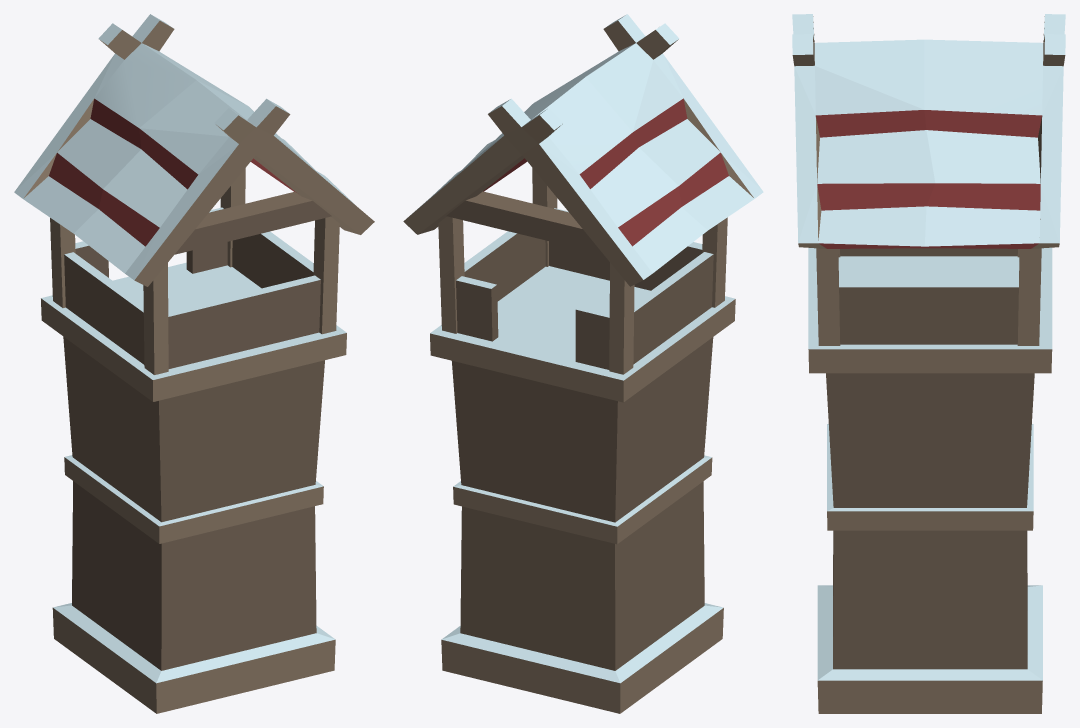
Rendered from SM_Bld_Viking_Tower_01_Snow.fbx.
3 views of the same model, side by side, from view 1: azimuth 30°, elevation 25°; view 2: azimuth 150°, elevation 25°; view 3: azimuth 270°, elevation 25° (orthographic). The views are drawn at different scales.
Parts seen in each view (by area): view 1: SM_Bld_Viking_Tower_01_Snow; view 2: SM_Bld_Viking_Tower_01_Snow; view 3: SM_Bld_Viking_Tower_01_Snow.
Boxes of the visible parts, <box> form: SM_Bld_Viking_Tower_01_Snow: <box>14,14,374,713</box>; SM_Bld_Viking_Tower_01_Snow: <box>403,14,763,713</box>; SM_Bld_Viking_Tower_01_Snow: <box>792,14,1065,713</box>.
Bounding box in the file's own units: 80.64 × 181 × 69.86.
Materials: 1 (1 with a texture image).
